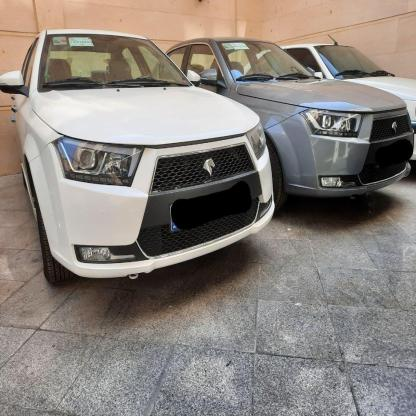Car: (0, 34, 280, 280), (161, 36, 416, 223), (289, 36, 416, 148)
